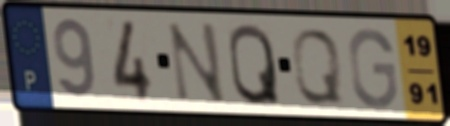4: (109, 16, 156, 105)
9: (50, 15, 99, 103)
G: (346, 25, 401, 112)
N: (164, 20, 229, 107)
Q: (226, 21, 283, 109), (288, 26, 346, 108)
